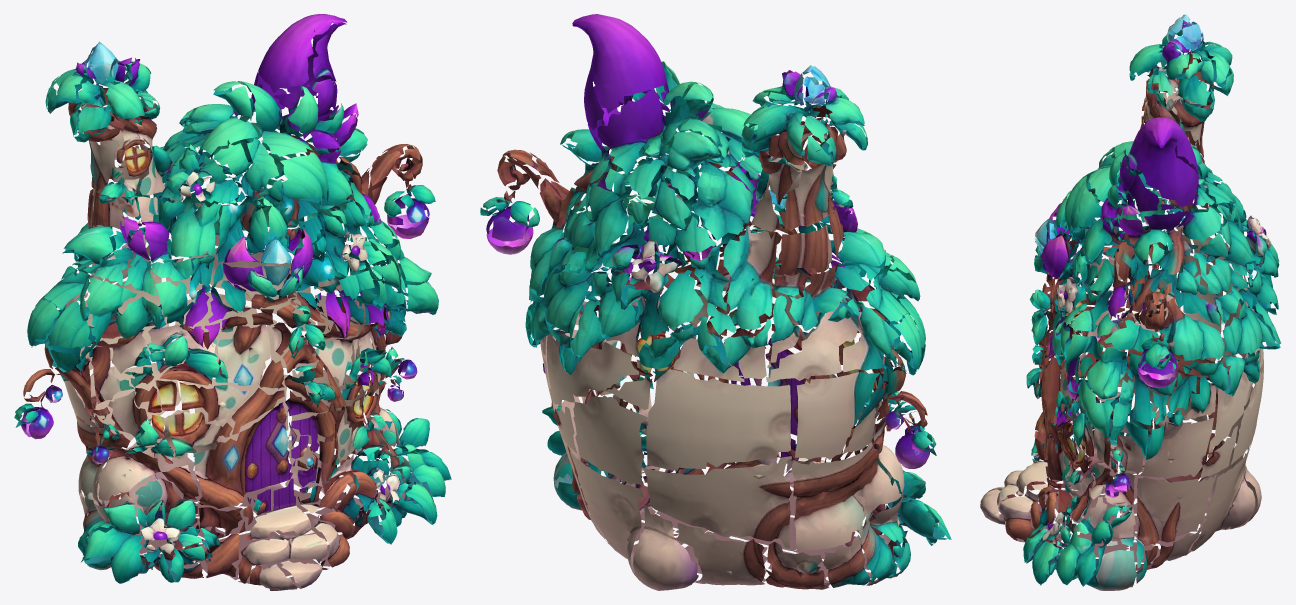
Rendered from chaumiere.glb.
The picture shows the model from 3 angles, left to right: view 1: azimuth 30°, elevation 25°; view 2: azimuth 150°, elevation 25°; view 3: azimuth 270°, elevation 25°; orthographic projection. The views are drawn at different scales.
Visible parts, largest first — view 1: mesh_node; view 2: mesh_node; view 3: mesh_node.
Boxes of the visible parts, box(x1,y1,x2,y2) form: mesh_node: box(14, 14, 451, 590); mesh_node: box(480, 14, 951, 590); mesh_node: box(980, 14, 1281, 590).
Bounding box in the file's own units: 1.7 × 1.9 × 1.13.
Materials: 1 (1 with a texture image).
